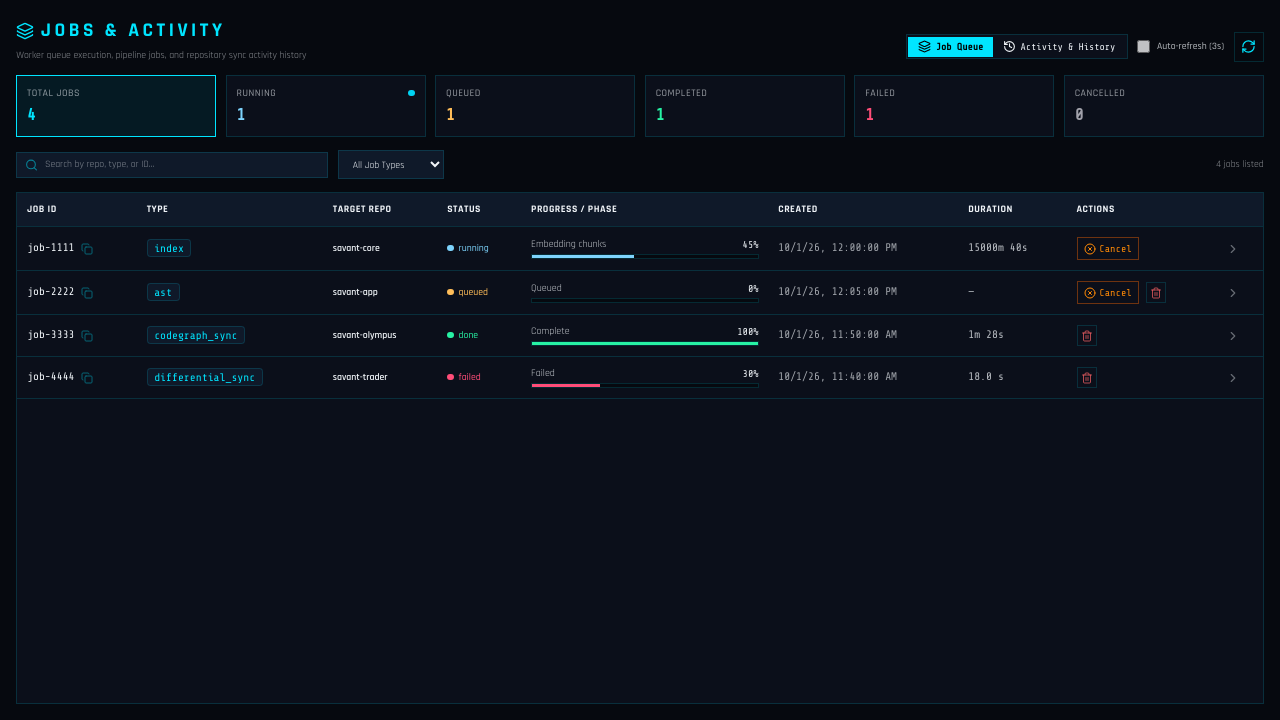
Test case: JobsView › renders the jobs table with summary KPIs and allows filtering
Check: the text "savant-core" is shown, box x1=323 y1=227 x2=437 y2=271
Check: the text "savant-olympus" is shown, box x1=323 y1=315 x2=437 y2=357
// Filter by type
Select "index" in the dropdown named "Filter by Job Type" at {"x": 391, "y": 165}, box x1=338 y1=150 x2=444 y2=179
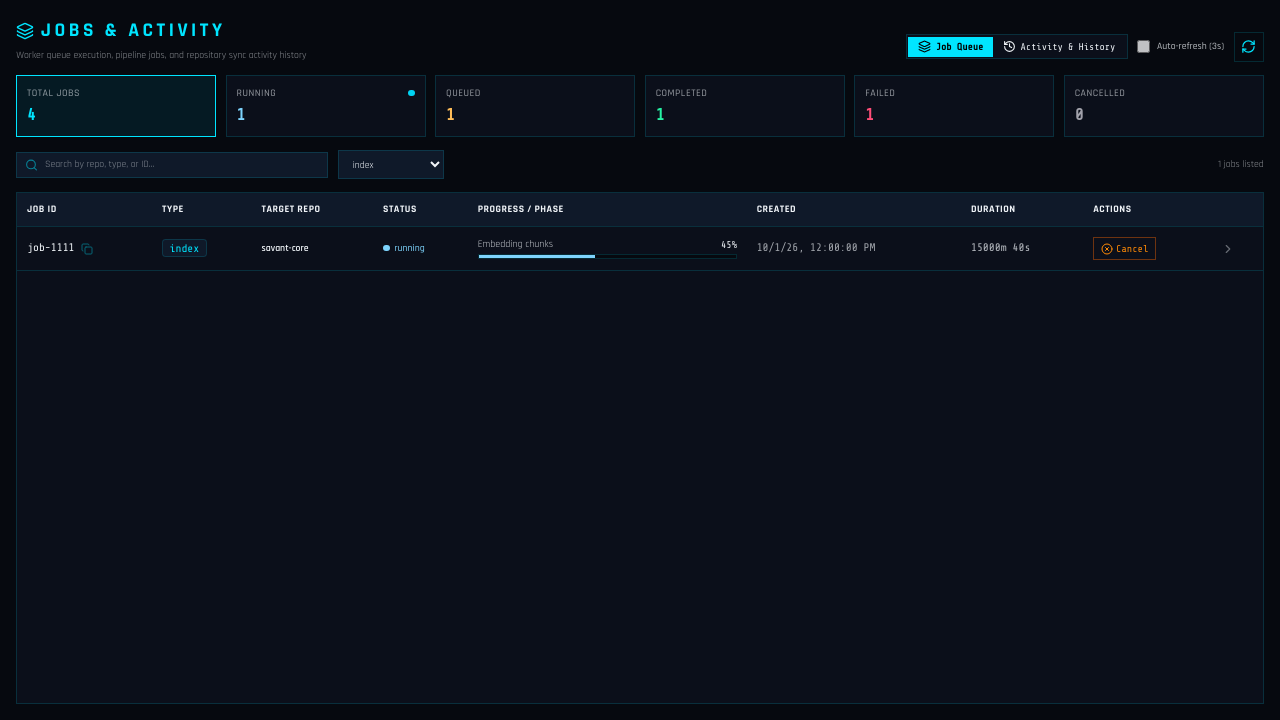
Check: the text "savant-core" is shown, box x1=252 y1=227 x2=373 y2=271
Check: the text "savant-olympus" is gone
// Reset filter
Select "All Job Types" in the dropdown named "Filter by Job Type" at {"x": 391, "y": 165}, box x1=338 y1=150 x2=444 y2=179
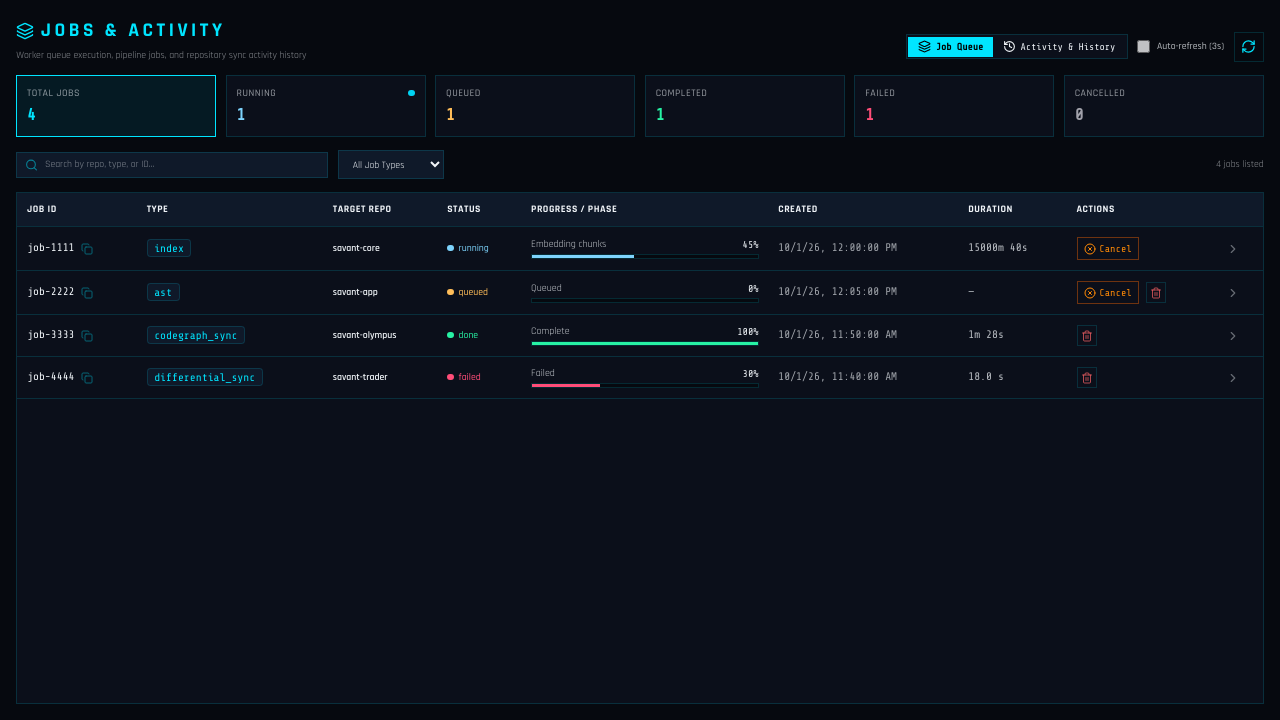
Check: the text "savant-olympus" is shown, box x1=323 y1=315 x2=437 y2=357
